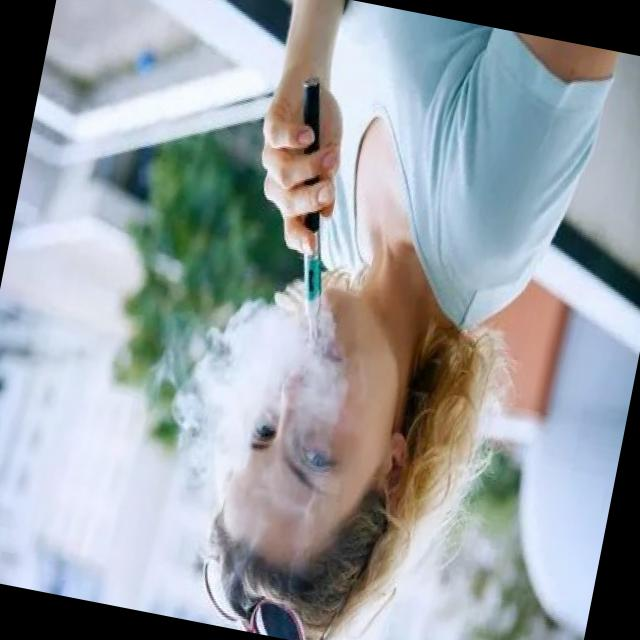cigarette: (254, 70, 372, 348)
